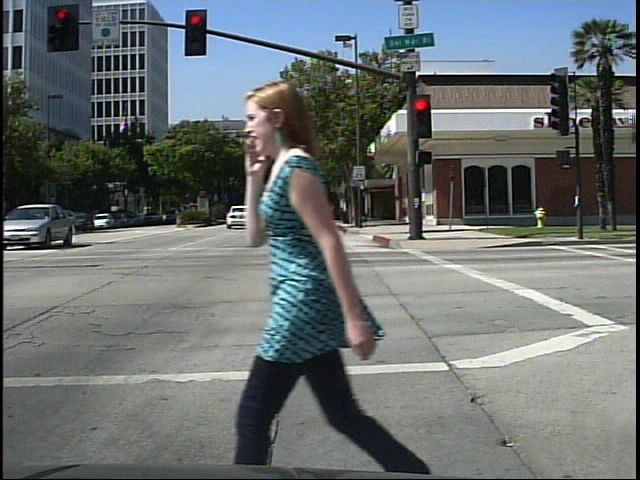person: (246, 75, 438, 480)
